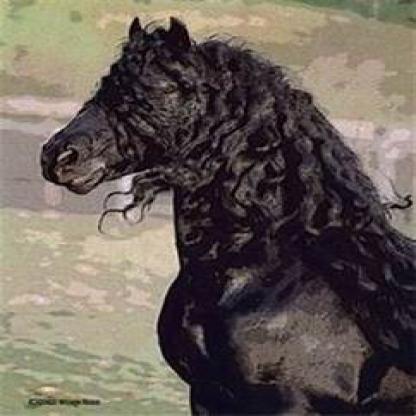horse: (35, 13, 414, 414)
